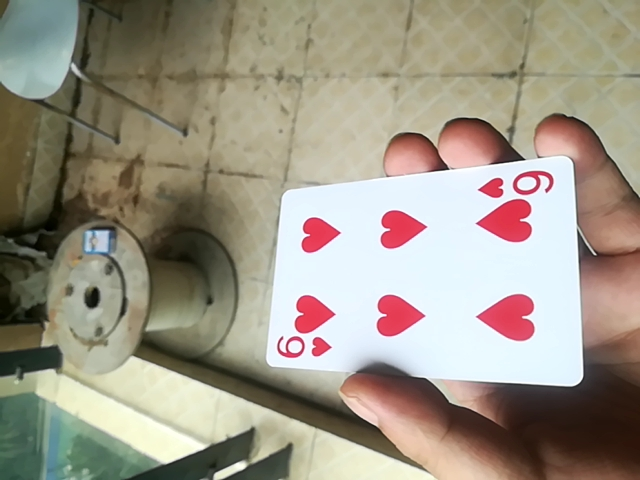hx 6: (266, 154, 582, 386)
